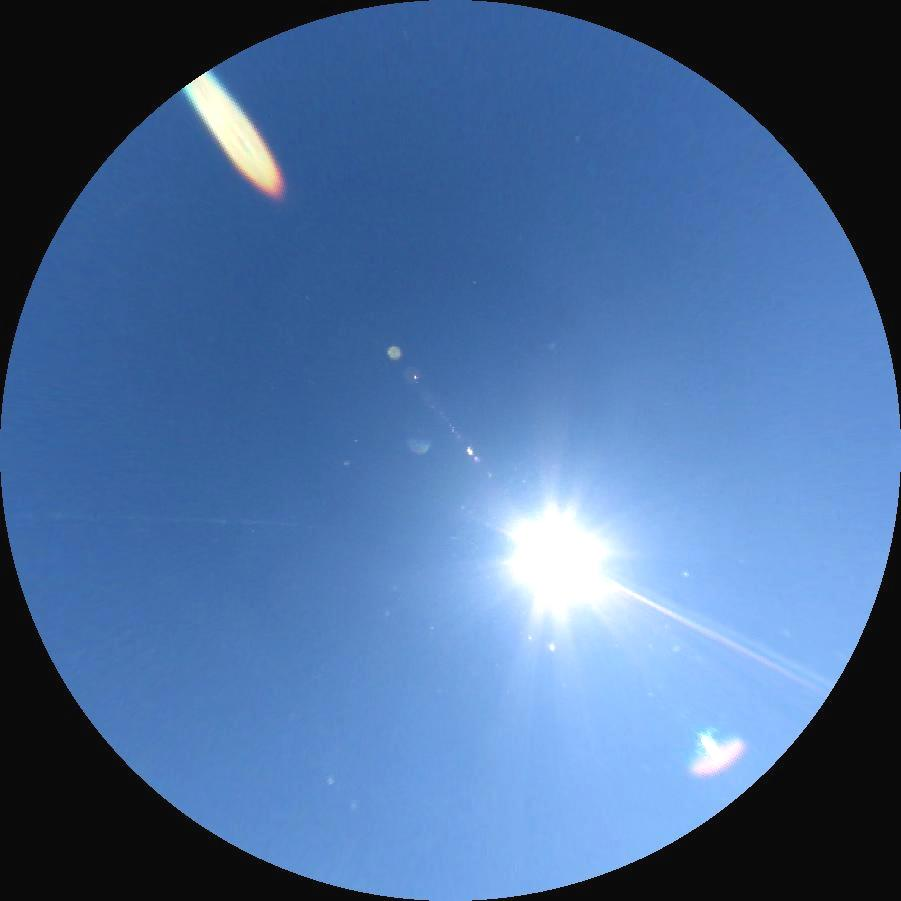parasite: (594, 574, 830, 696), (9, 514, 297, 527)
sun: (493, 496, 616, 620)
